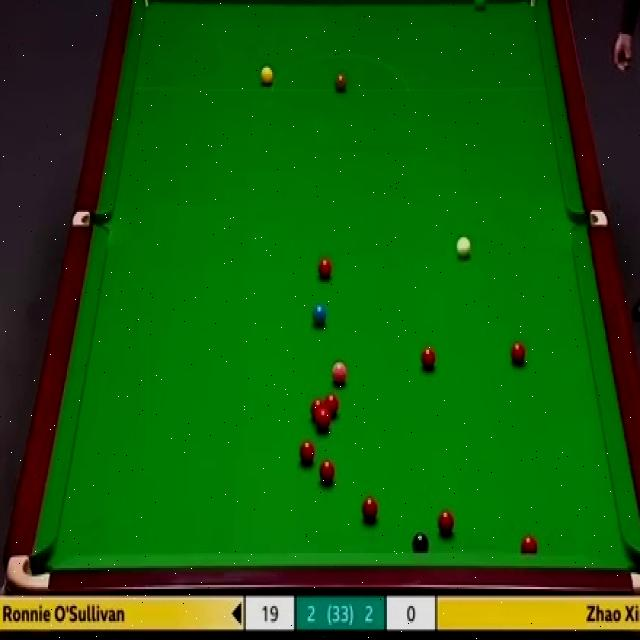black-ball: (412, 531, 430, 554)
blue-ball: (310, 302, 328, 326)
brown-ball: (334, 70, 347, 92)
green-ball: (472, 0, 487, 8)
pink-ball: (331, 360, 346, 386)
red-ball: (317, 256, 337, 284), (319, 455, 337, 485), (437, 510, 455, 539), (362, 494, 379, 524), (420, 343, 437, 372), (296, 442, 316, 466), (310, 398, 325, 425), (510, 342, 525, 368), (325, 394, 339, 418), (520, 534, 538, 552), (316, 412, 332, 432)
white-ball: (455, 234, 473, 262)
yellow-ball: (260, 68, 272, 85)
